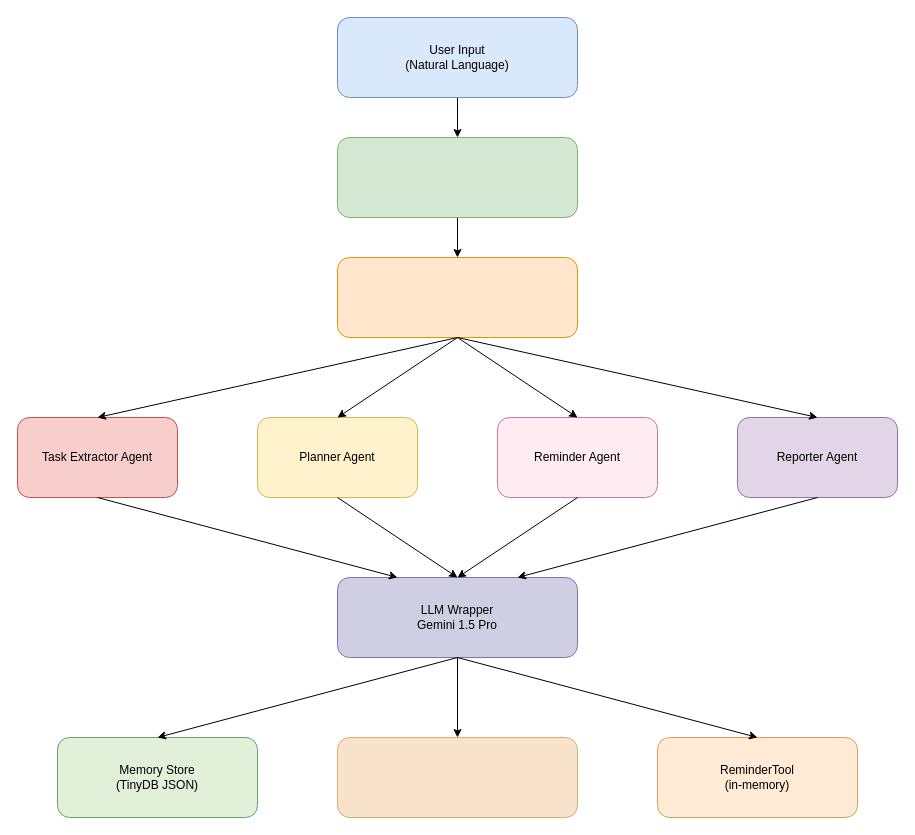
Some shapes in this 915 by 835 pixel diagram are drawn without their labels. Here are the shapes that lost their labels. From the top down, the box of each, then its label:
(336, 136, 578, 218): Flask API /run endpoint
(336, 256, 578, 338): Workflow Orchestrator (workflow.py)
(336, 736, 578, 818): CalendarTool (in-memory)
